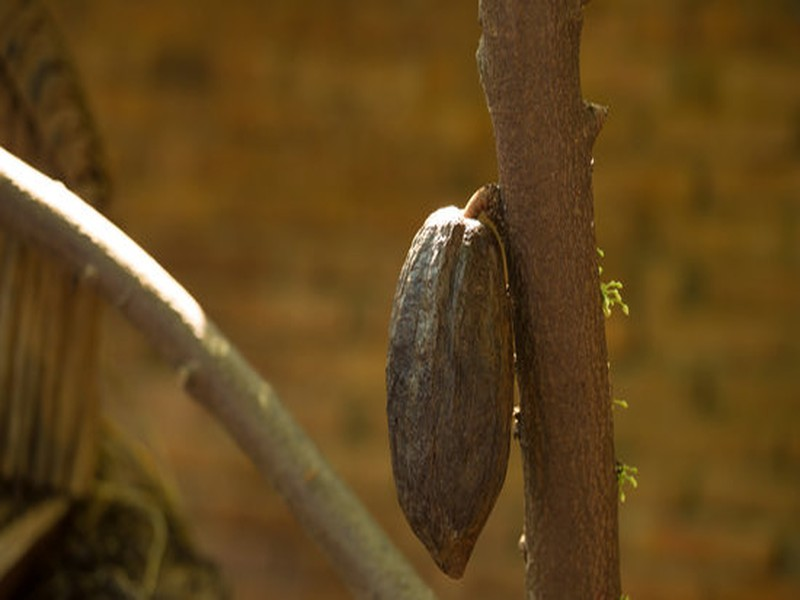Cacaopod: (382, 203, 512, 583)
